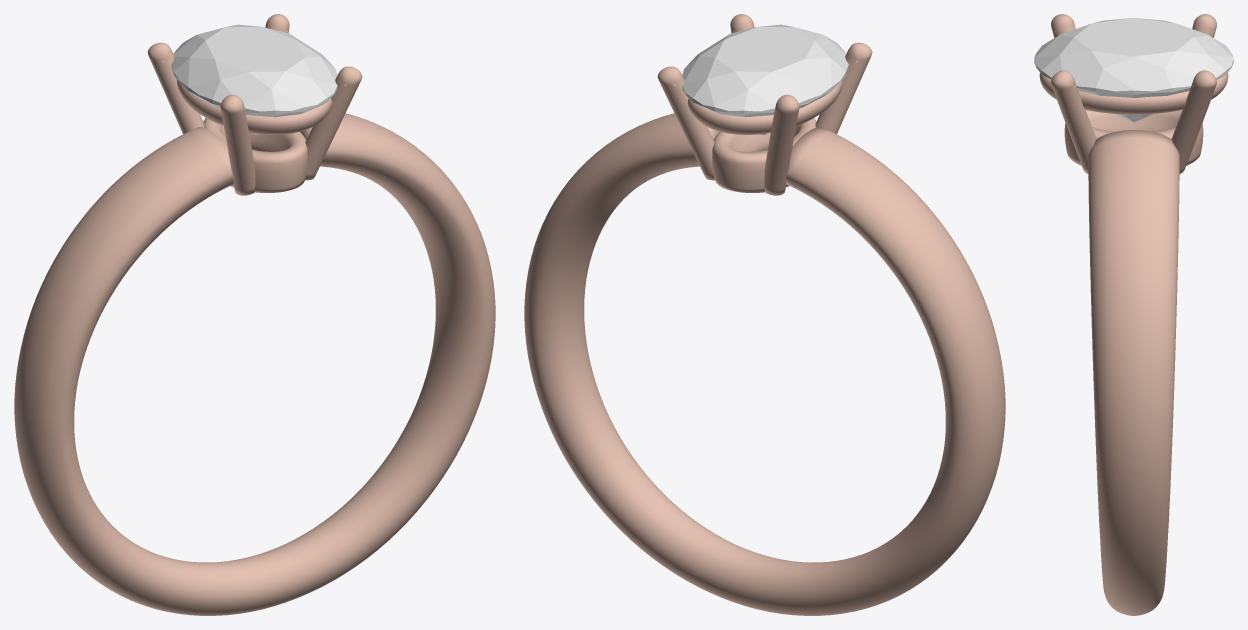
File: diamond-oval-rosegold-4prong-taperedband-nosidestones.glb
The picture shows the model from 3 angles, left to right: view 1: azimuth 30°, elevation 25°; view 2: azimuth 150°, elevation 25°; view 3: azimuth 270°, elevation 25°; orthographic projection.
Parts seen in each view (by area): view 1: metal, stone; view 2: metal, stone; view 3: metal, stone.
Boxes of the visible parts, x1=… form: metal: x1=14, y1=14, x2=495, y2=615; stone: x1=171, y1=24, x2=337, y2=134; metal: x1=524, y1=14, x2=1005, y2=615; stone: x1=682, y1=24, x2=848, y2=134; metal: x1=1039, y1=14, x2=1228, y2=615; stone: x1=1034, y1=17, x2=1233, y2=122.
Bounding box in the file's own units: 20.5 × 23.4 × 7.64.
